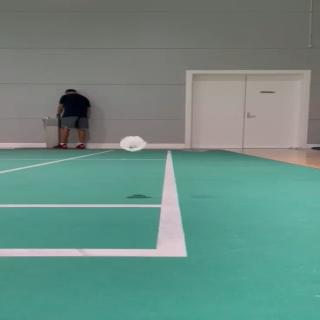Shuttle: (120, 135, 146, 151)
